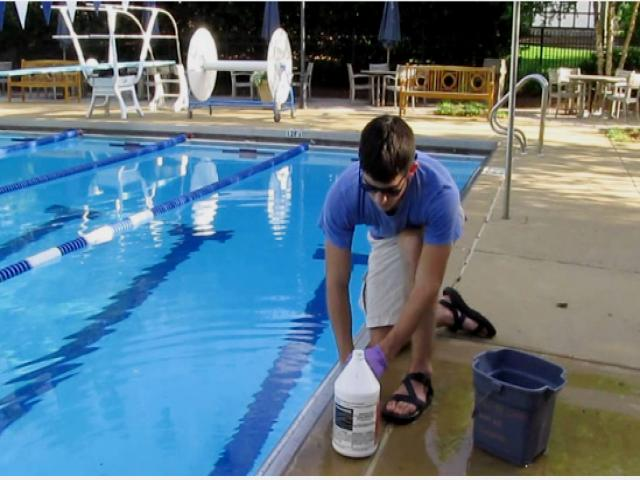out of water: (299, 108, 477, 463)
